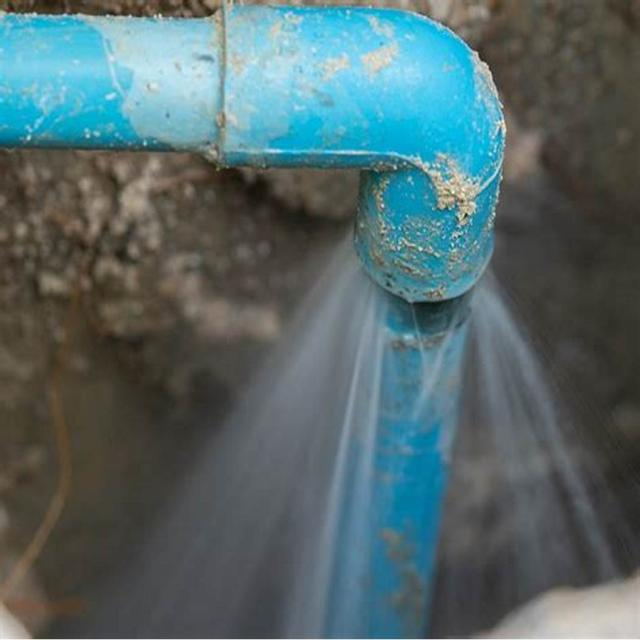leak: (39, 226, 640, 640)
